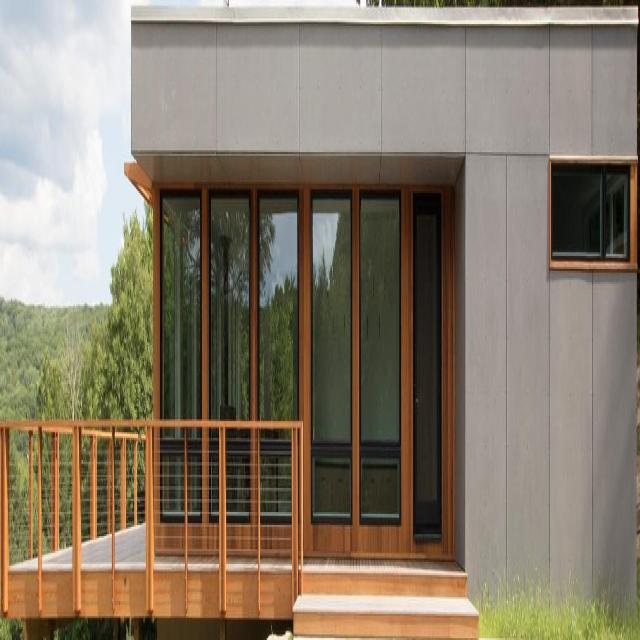door: (411, 179, 450, 555)
railing: (0, 421, 302, 567)
window: (360, 179, 401, 523), (311, 195, 351, 521), (259, 193, 297, 423), (210, 191, 248, 421), (162, 191, 200, 421), (552, 165, 631, 260)
